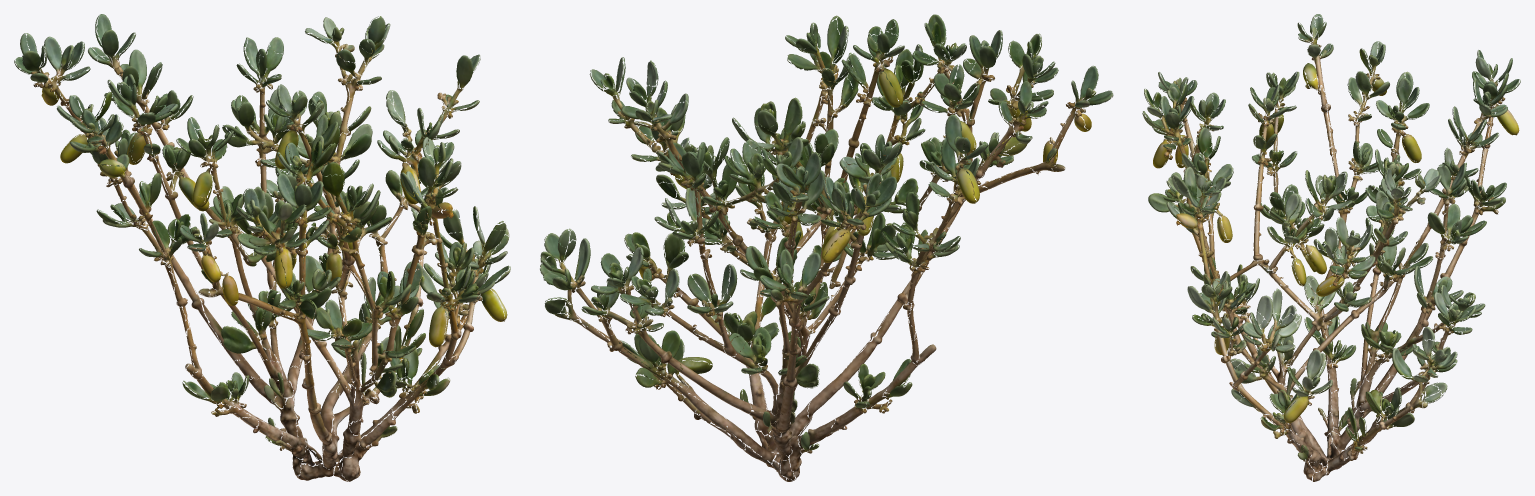
File: haram.glb
3 views of the same model, side by side, from view 1: azimuth 30°, elevation 25°; view 2: azimuth 150°, elevation 25°; view 3: azimuth 270°, elevation 25° (orthographic). The views are drawn at different scales.
Parts seen in each view (by area): view 1: tripo_node_feb1ba4e-f1f6-4d37-92ae-6deadabd7ace; view 2: tripo_node_feb1ba4e-f1f6-4d37-92ae-6deadabd7ace; view 3: tripo_node_feb1ba4e-f1f6-4d37-92ae-6deadabd7ace.
Part boxes in pixels (x1,y1,x2,y2): tripo_node_feb1ba4e-f1f6-4d37-92ae-6deadabd7ace: (14, 14, 510, 481); tripo_node_feb1ba4e-f1f6-4d37-92ae-6deadabd7ace: (540, 14, 1113, 481); tripo_node_feb1ba4e-f1f6-4d37-92ae-6deadabd7ace: (1142, 14, 1520, 481).
Bounding box in the file's own units: 0.9806 × 0.924 × 0.8801.
1 material, 1 textured.
